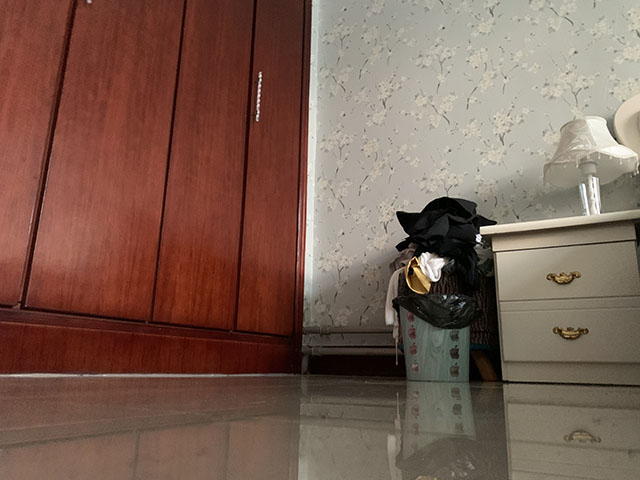cabinet: (1, 1, 313, 377), (479, 208, 640, 388)
trashcan: (391, 293, 481, 383)
